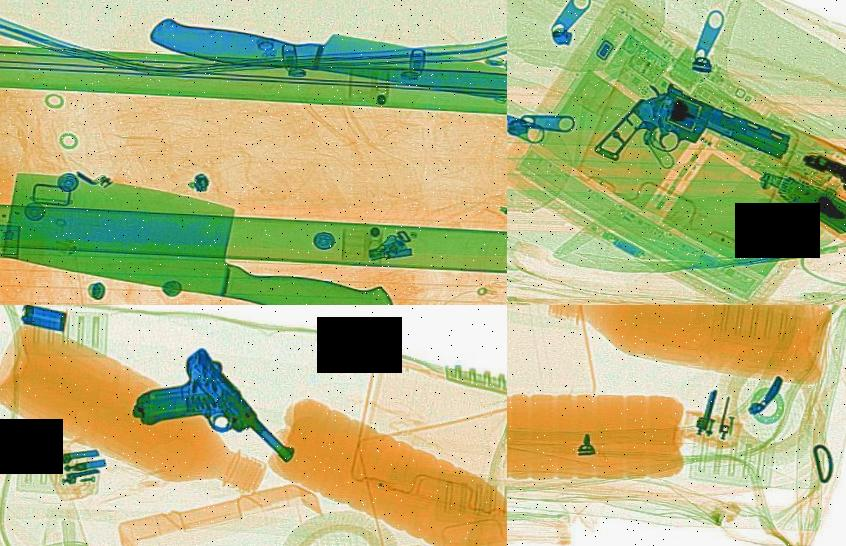Gun: (100, 342, 310, 490), (587, 80, 805, 204), (789, 143, 846, 211)
Knife: (0, 157, 434, 305), (143, 6, 507, 105)
